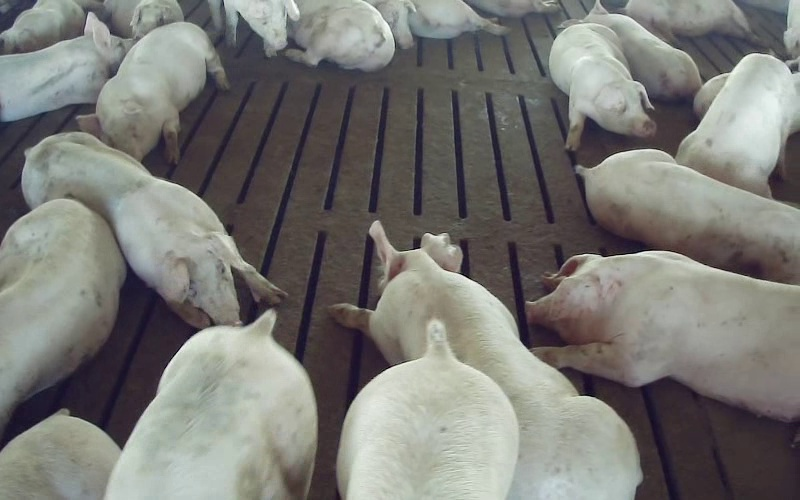pig: (22, 132, 285, 327), (527, 251, 799, 421), (105, 309, 316, 499), (337, 319, 518, 499), (576, 149, 799, 283), (0, 199, 125, 434), (77, 22, 228, 163), (675, 53, 794, 197), (0, 13, 133, 120), (559, 0, 701, 100), (549, 23, 655, 150), (285, 0, 394, 71), (624, 0, 751, 43), (0, 0, 85, 54), (104, 0, 183, 40)
